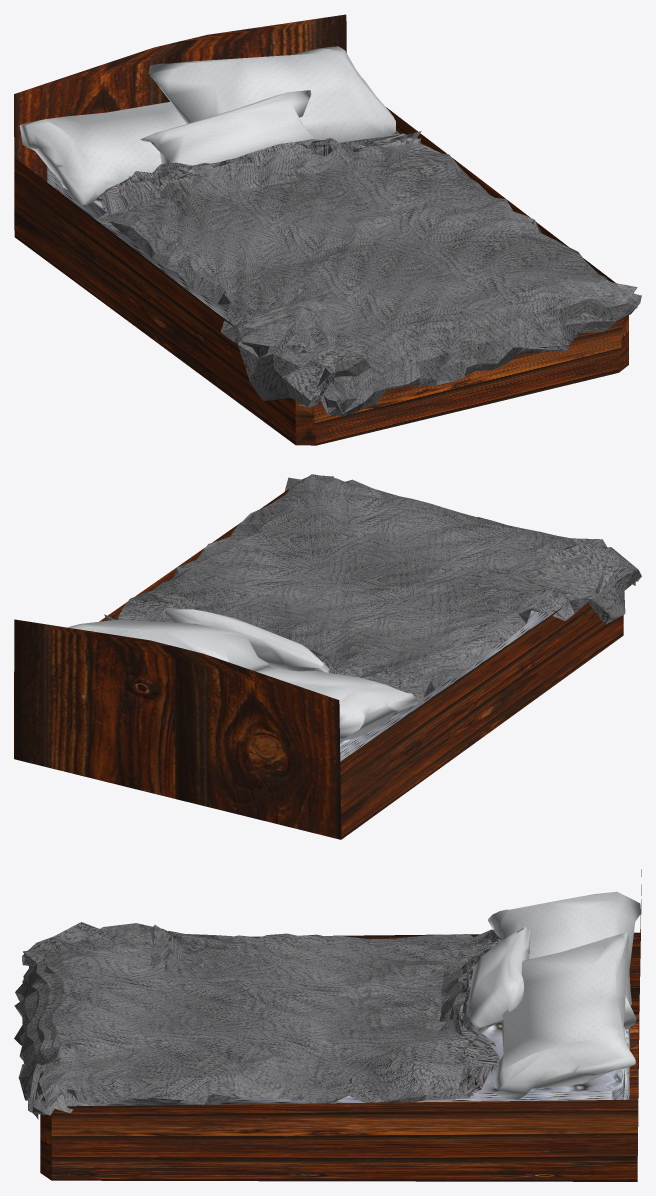
The model's file is LowPolybed.glb.
The picture shows the model from 3 angles, top to bottom: view 1: azimuth 30°, elevation 25°; view 2: azimuth 150°, elevation 25°; view 3: azimuth 270°, elevation 25°; orthographic projection. The views are drawn at different scales.
Visible parts, largest first — view 1: Blanket, Frame, Big Pillow 2, Big Pillow, Pillow, Mattress; view 2: Frame, Blanket, Big Pillow, Big Pillow 2, Pillow, Mattress; view 3: Blanket, Frame, Big Pillow 2, Big Pillow, Pillow, Mattress.
Part boxes in pixels (left/top/right/bottom): Blanket: left=96, top=131, right=641, bottom=416; Frame: left=14, top=14, right=628, bottom=445; Big Pillow 2: left=148, top=46, right=395, bottom=141; Big Pillow: left=19, top=102, right=186, bottom=205; Pillow: left=140, top=90, right=314, bottom=165; Mattress: left=47, top=131, right=399, bottom=357; Frame: left=14, top=489, right=623, bottom=839; Blanket: left=104, top=474, right=641, bottom=703; Big Pillow: left=256, top=667, right=417, bottom=740; Big Pillow 2: left=68, top=619, right=270, bottom=671; Pillow: left=165, top=609, right=329, bottom=672; Mattress: left=322, top=610, right=549, bottom=761; Blanket: left=14, top=922, right=503, bottom=1119; Frame: left=40, top=869, right=641, bottom=1181; Big Pillow 2: left=493, top=932, right=635, bottom=1099; Big Pillow: left=488, top=891, right=641, bottom=1029; Pillow: left=466, top=927, right=530, bottom=1032; Mattress: left=54, top=953, right=624, bottom=1106.
Bounding box in the file's own units: 3.73 × 1.54 × 5.47.
Materials: 4 (4 with a texture image).
